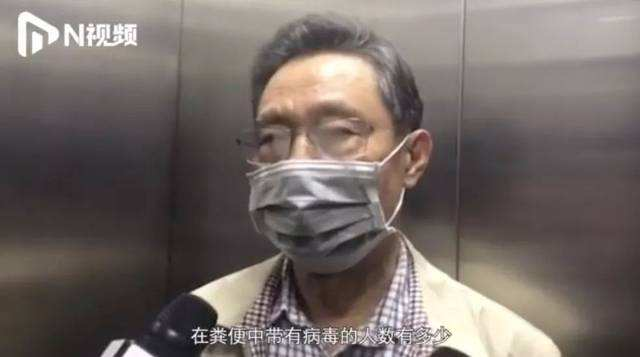mask: (254, 65, 387, 270)
